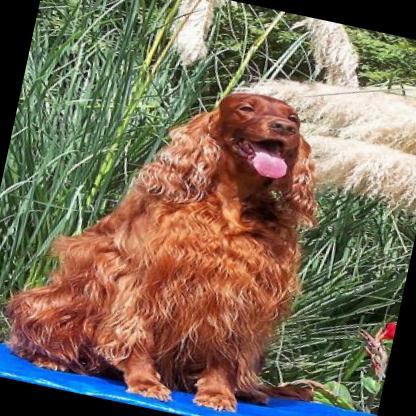Irish_setter: (2, 50, 374, 416)
